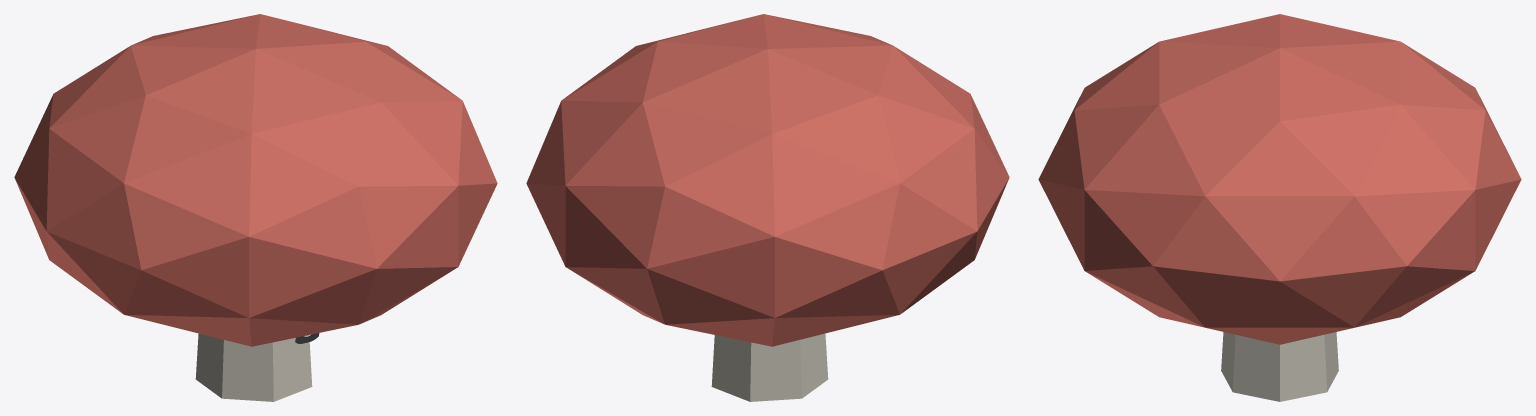
The model's file is panaeolus-foenisecii.glb.
3 views of the same model, side by side, from view 1: azimuth 30°, elevation 25°; view 2: azimuth 150°, elevation 25°; view 3: azimuth 270°, elevation 25° (orthographic).
Parts seen in each view (by area): view 1: cap, stalk; view 2: cap, stalk; view 3: cap, stalk.
Part boxes in pixels (x1,y1,x2,y2): cap: [14, 14, 497, 346]; stalk: [195, 333, 312, 401]; cap: [526, 14, 1009, 346]; stalk: [711, 333, 828, 401]; cap: [1038, 14, 1521, 344]; stalk: [1221, 332, 1338, 401].
Bounding box in the file's own units: 0.4 × 0.3 × 0.4.
